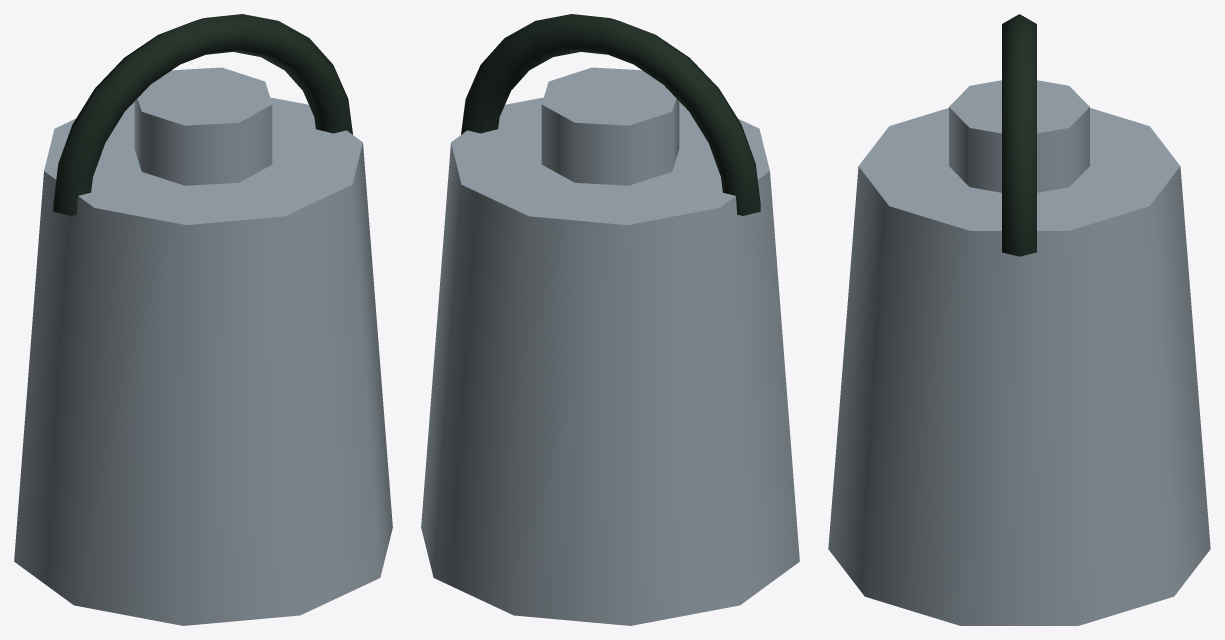
Rendered from item_milk.glb.
3 views of the same model, side by side, from view 1: azimuth 30°, elevation 25°; view 2: azimuth 150°, elevation 25°; view 3: azimuth 270°, elevation 25° (orthographic).
Visible parts, largest first — view 1: item_milk; view 2: item_milk; view 3: item_milk.
Part boxes in pixels (left/top/right/bottom): item_milk: left=14, top=14, right=392, bottom=625; item_milk: left=421, top=14, right=799, bottom=625; item_milk: left=828, top=14, right=1210, bottom=625.
Bounding box in the file's own units: 0.3614 × 0.57 × 0.38.
